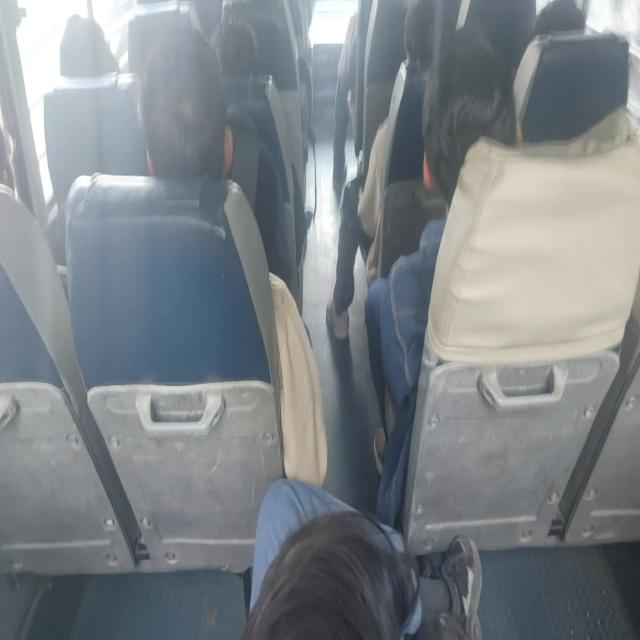person: (241, 529, 433, 640), (418, 53, 519, 199), (136, 44, 232, 172), (50, 8, 120, 82), (386, 0, 462, 64), (211, 22, 260, 82), (0, 113, 28, 202), (537, 0, 593, 44)
